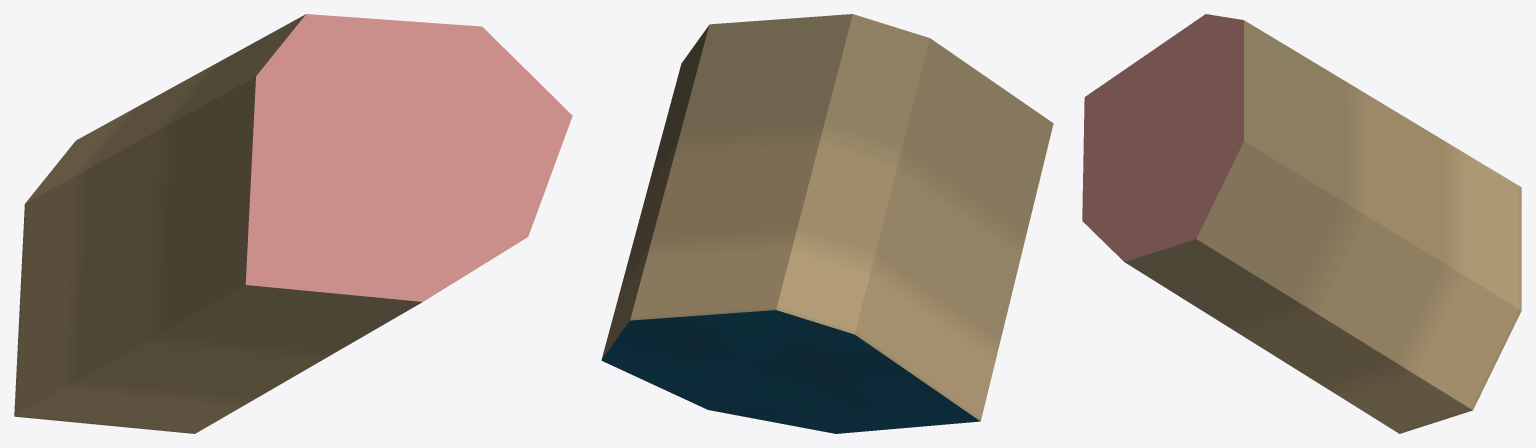
File: 067a_Czech_Republic.glb
3 renders of one model, left to right at view 1: azimuth 30°, elevation 25°; view 2: azimuth 150°, elevation 25°; view 3: azimuth 270°, elevation 25°, orthographic. The views are drawn at different scales.
Visible parts, largest first — view 1: part_0; view 2: part_0; view 3: part_0.
Boxes of the visible parts, x1,y1,x2,y2 form: part_0: [14, 14, 572, 433]; part_0: [601, 14, 1053, 433]; part_0: [1082, 14, 1521, 433].
Bounding box in the file's own units: 0.2556 × 0.241 × 0.2456.
1 material, 1 textured.
